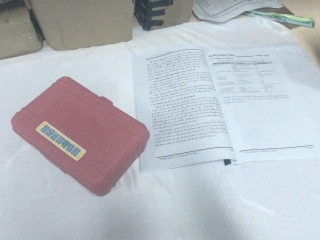box: (9, 73, 151, 196)
